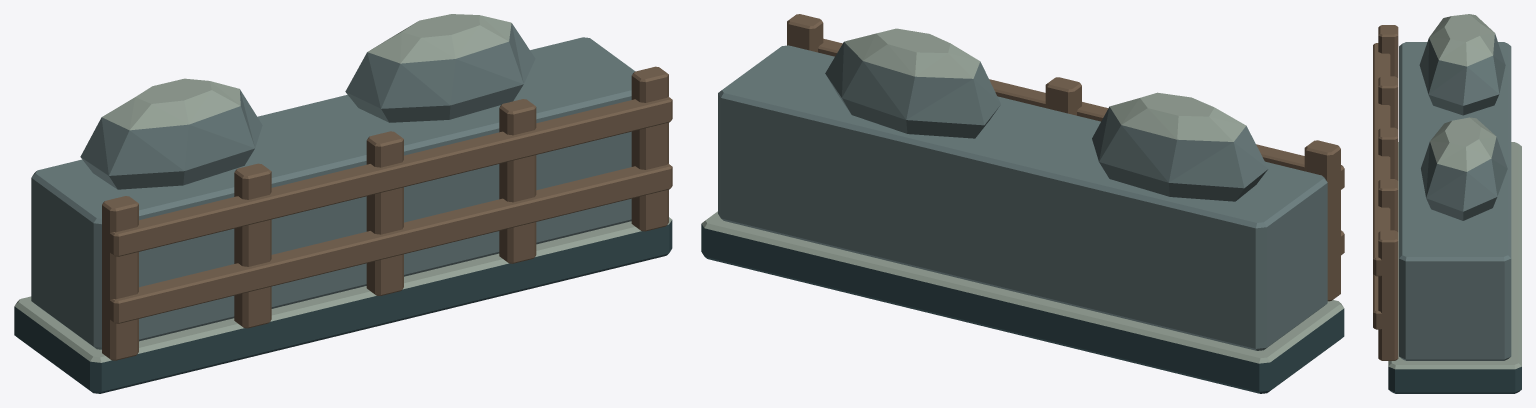
Rendered from wall-broken.glb.
The picture shows the model from 3 angles, left to right: view 1: azimuth 30°, elevation 25°; view 2: azimuth 150°, elevation 25°; view 3: azimuth 270°, elevation 25°; orthographic projection. The views are drawn at different scales.
Parts seen in each view (by area): view 1: wall-broken__body; view 2: wall-broken__body; view 3: wall-broken__body.
Boxes of the visible parts, x1,y1,x2,y2 form: wall-broken__body: (14,14,672,393); wall-broken__body: (701,14,1344,393); wall-broken__body: (1373,14,1521,393).
Size of the model in its own units: 2 by 0.79 by 0.5575.
